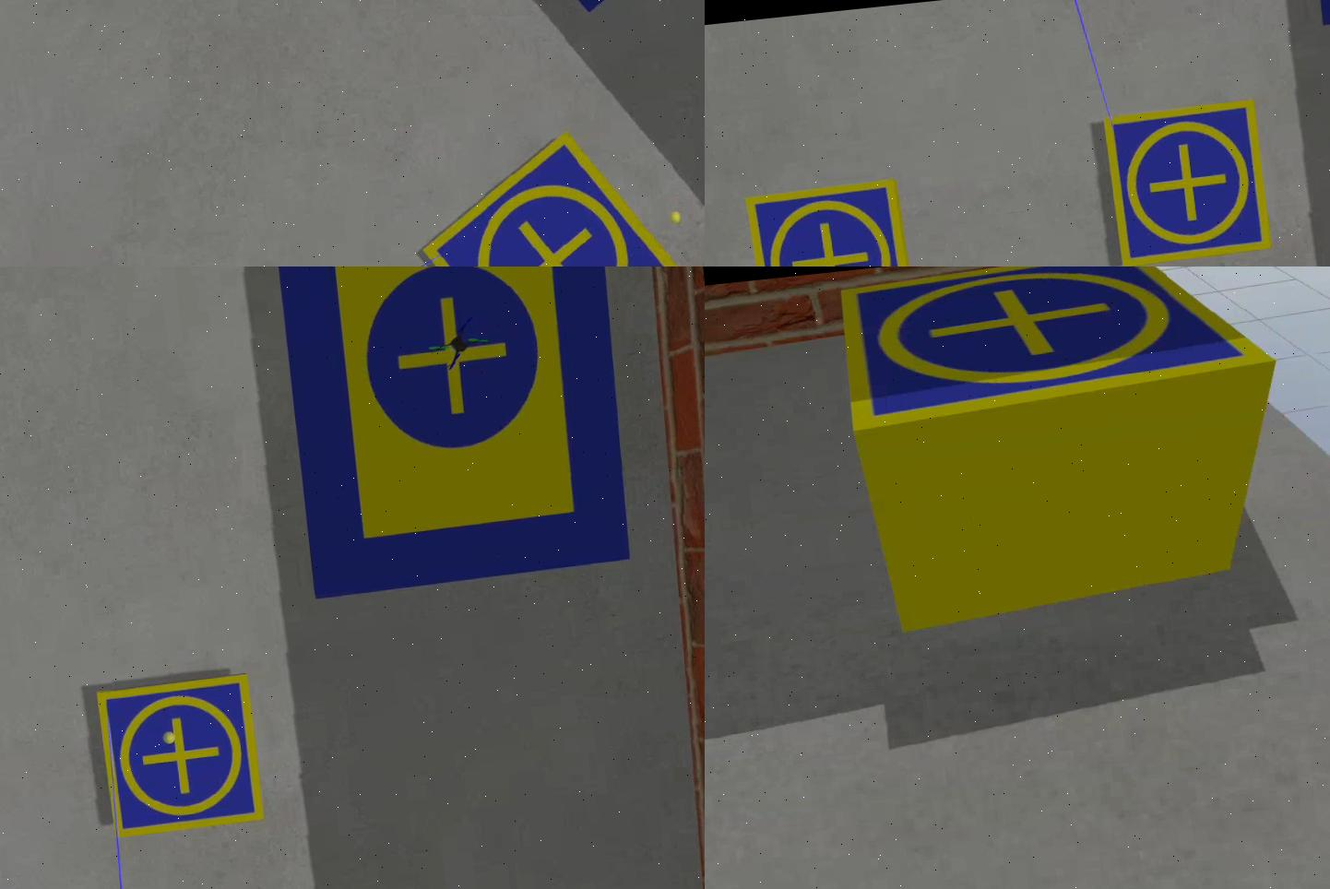large_base: (274, 267, 639, 599)
small_base: (836, 267, 1283, 439), (409, 120, 698, 267), (1100, 98, 1277, 267), (97, 672, 270, 842), (747, 174, 920, 267)
